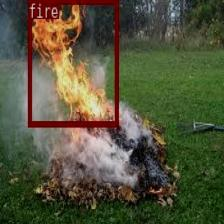fire: (28, 0, 117, 125)
